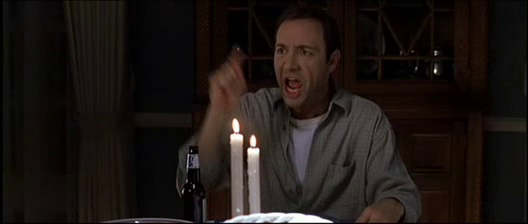face: (273, 27, 324, 109)
ms: (1, 1, 528, 224)
person: (175, 6, 422, 223)
